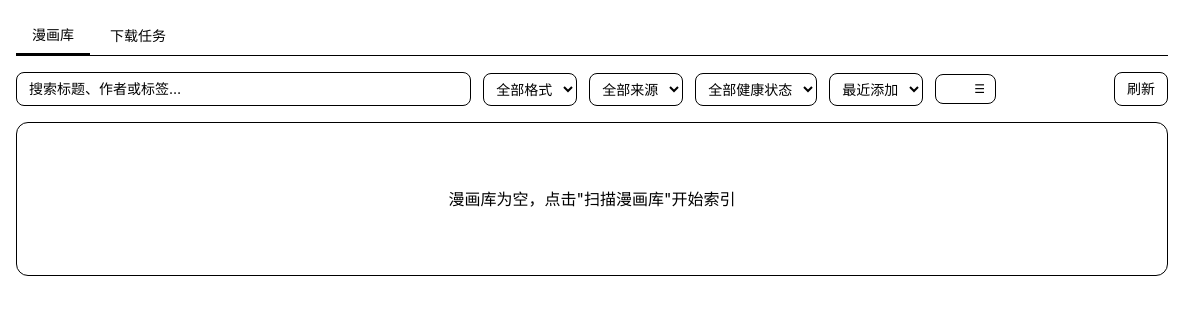
DownloadPage › filters tasks by status through the responsive action toolbar
The width and height of the screenshot is (1185, 323).
Click the button with test id "subtab-tasks" at coordinates (138, 36), box [94,18,182,54]
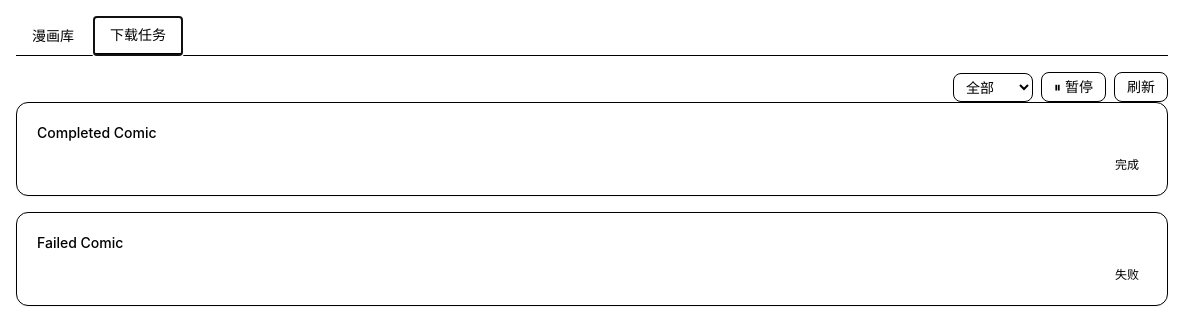
Select "失败" in the dropdown at coordinates (993, 87), box [953,72,1033,102]
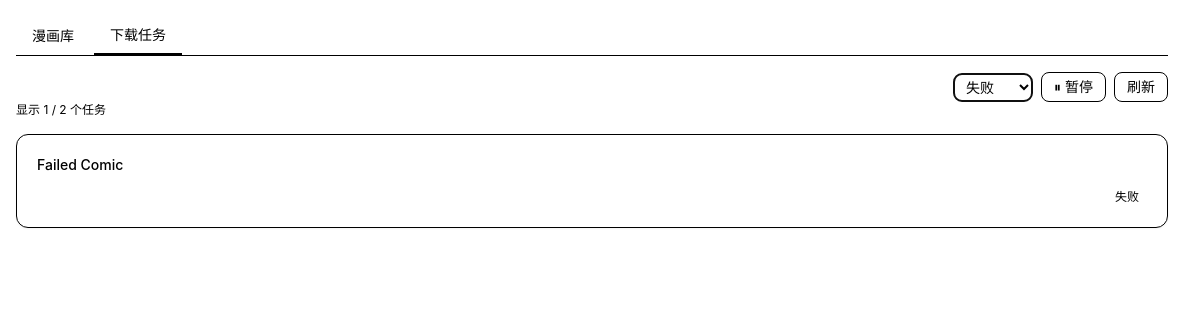
Result: the heading "Failed Comic" is shown at [37,156,123,173]
Result: the heading "Completed Comic" is gone
Result: the text "显示 1 / 2 个任务" is shown at [16,102,106,117]
